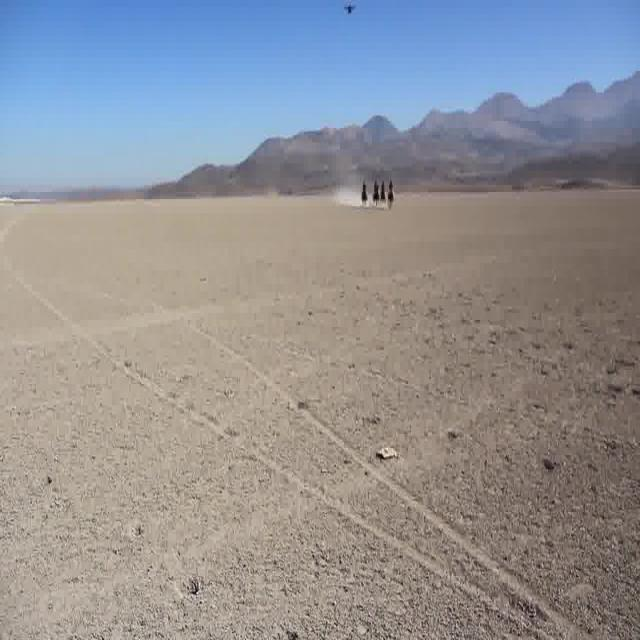drones: (336, 1, 365, 29)
